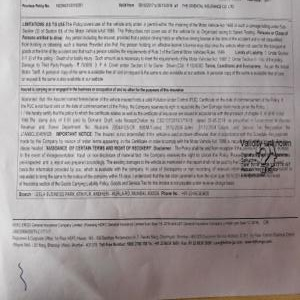text: (19, 93, 292, 186), (19, 19, 291, 83), (11, 221, 297, 248)
